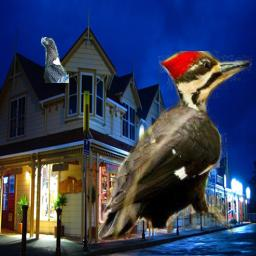Crow: (41, 37, 69, 83)
Woodpecker: (98, 51, 252, 240)
